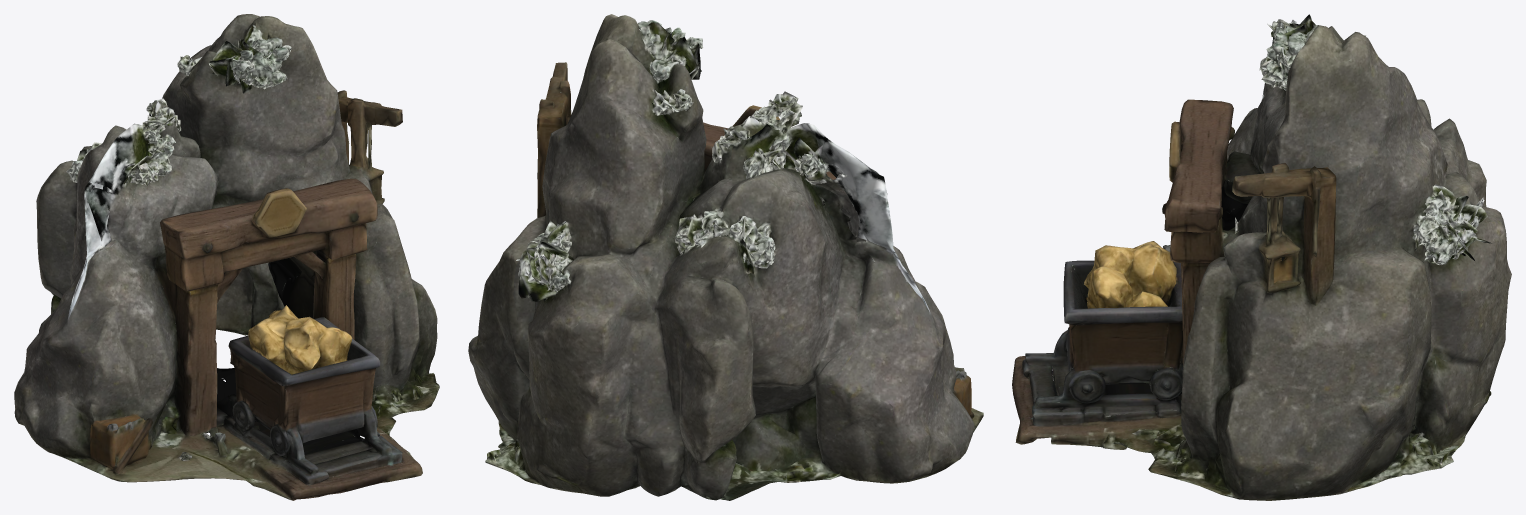
The model's file is gold_mine.glb.
3 renders of one model, left to right at view 1: azimuth 30°, elevation 25°; view 2: azimuth 150°, elevation 25°; view 3: azimuth 270°, elevation 25°, orthographic. The views are drawn at different scales.
Visible parts, largest first — view 1: gold_mine_s7_fit; view 2: gold_mine_s7_fit; view 3: gold_mine_s7_fit.
Part boxes in pixels (bbox=[...]): gold_mine_s7_fit: bbox=[14, 14, 439, 500]; gold_mine_s7_fit: bbox=[468, 14, 983, 500]; gold_mine_s7_fit: bbox=[1012, 14, 1511, 500].
Size of the model in its own units: 4.08 by 3.65 by 4.02.
Materials: 1 (1 with a texture image).
